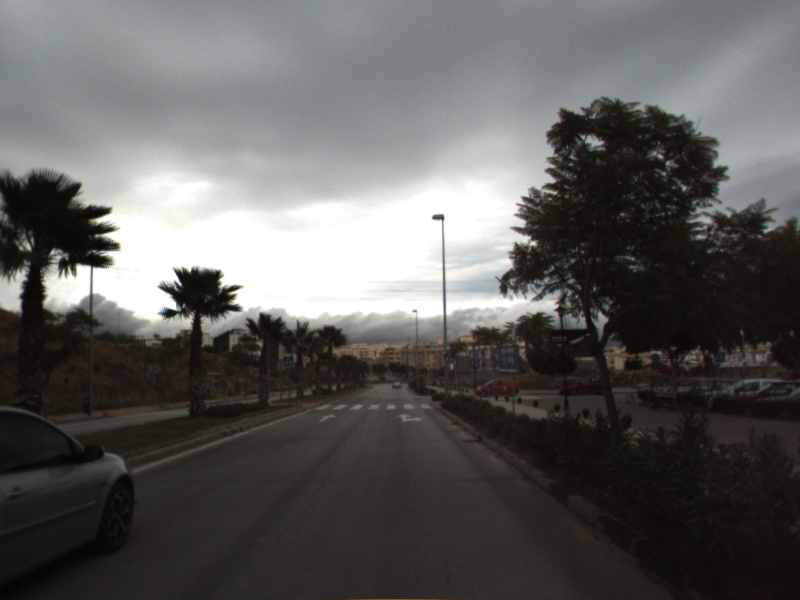STRAIGHT: (316, 412, 338, 424)
STRAIGHT_RIGHT: (394, 411, 424, 424)
